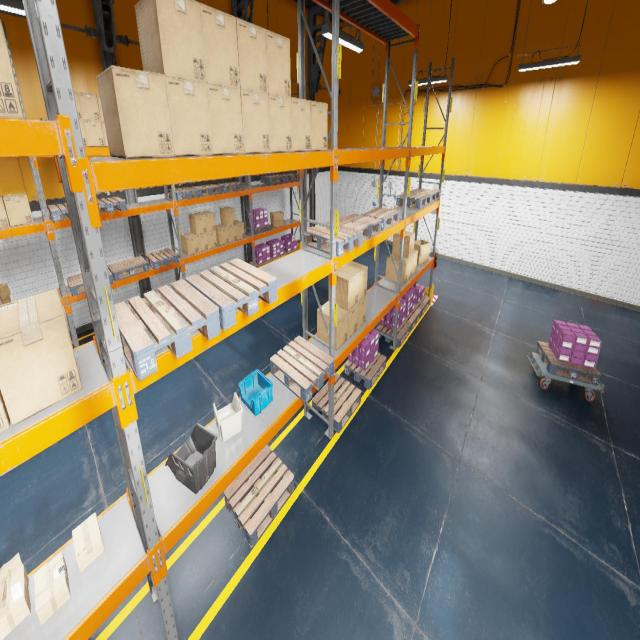box: (0, 288, 82, 425), (97, 65, 174, 158), (134, 0, 206, 82), (165, 76, 213, 156), (200, 2, 240, 88), (34, 551, 70, 625), (0, 552, 30, 640), (207, 84, 244, 154), (0, 15, 24, 118), (236, 17, 268, 93), (72, 512, 104, 572), (240, 89, 270, 153), (265, 29, 291, 97), (317, 301, 348, 350), (268, 94, 292, 152), (328, 267, 359, 310), (342, 260, 368, 302), (291, 97, 311, 151), (3, 192, 33, 226), (311, 100, 327, 150), (386, 254, 408, 285), (392, 230, 415, 258), (78, 92, 100, 120), (83, 120, 105, 146), (394, 254, 413, 279), (0, 388, 10, 432), (347, 303, 358, 339), (181, 232, 198, 255), (189, 212, 206, 235), (414, 240, 430, 264), (199, 210, 215, 232), (0, 195, 10, 228), (220, 206, 236, 226), (357, 295, 366, 330), (215, 224, 229, 245), (221, 224, 237, 242), (0, 282, 11, 304), (270, 211, 284, 228), (74, 91, 82, 119), (197, 232, 208, 252), (96, 94, 104, 120), (79, 120, 87, 146), (207, 230, 217, 249), (101, 121, 108, 146), (236, 220, 244, 240), (412, 249, 418, 275)
pallets: (114, 279, 221, 380), (224, 445, 294, 548), (186, 258, 277, 330), (270, 335, 334, 403), (312, 373, 361, 433), (536, 342, 601, 386), (307, 222, 362, 257), (344, 352, 386, 389), (330, 214, 382, 242), (66, 268, 114, 296), (107, 256, 149, 281), (377, 321, 411, 347), (362, 207, 399, 230), (144, 248, 178, 270), (396, 192, 431, 209), (97, 197, 127, 214), (410, 188, 440, 203), (48, 203, 70, 222), (168, 187, 200, 200), (191, 184, 222, 197), (405, 306, 421, 331), (415, 295, 430, 316), (217, 182, 245, 193), (246, 224, 271, 235), (260, 175, 285, 184), (277, 173, 298, 181), (248, 260, 272, 267), (270, 254, 287, 260), (283, 248, 300, 254), (132, 312, 140, 320), (163, 299, 171, 306)
